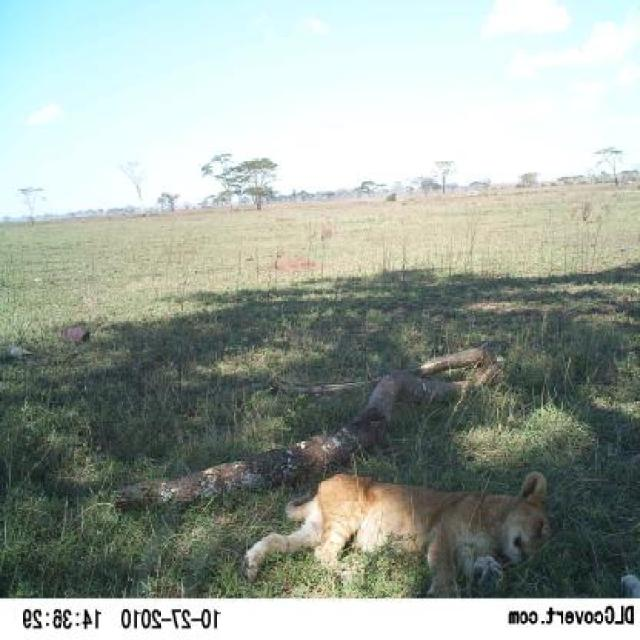Lion: (243, 437, 568, 591)
